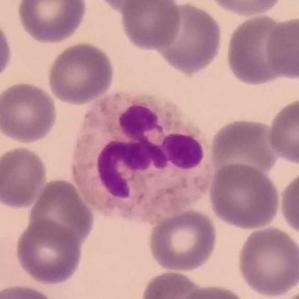Neutrophil: (68, 90, 214, 224)
RBC: (152, 0, 225, 75), (223, 12, 294, 88), (25, 176, 96, 250), (206, 161, 282, 230), (146, 207, 219, 274), (14, 218, 85, 286), (235, 221, 299, 296), (45, 40, 116, 106), (207, 117, 279, 182), (0, 80, 59, 145), (14, 0, 88, 45), (119, 0, 183, 51), (0, 145, 50, 210), (263, 15, 299, 81), (266, 96, 299, 166), (138, 268, 209, 299), (277, 166, 299, 243), (202, 0, 288, 17), (176, 282, 251, 299), (93, 0, 170, 14), (0, 282, 61, 299), (0, 16, 14, 84)
